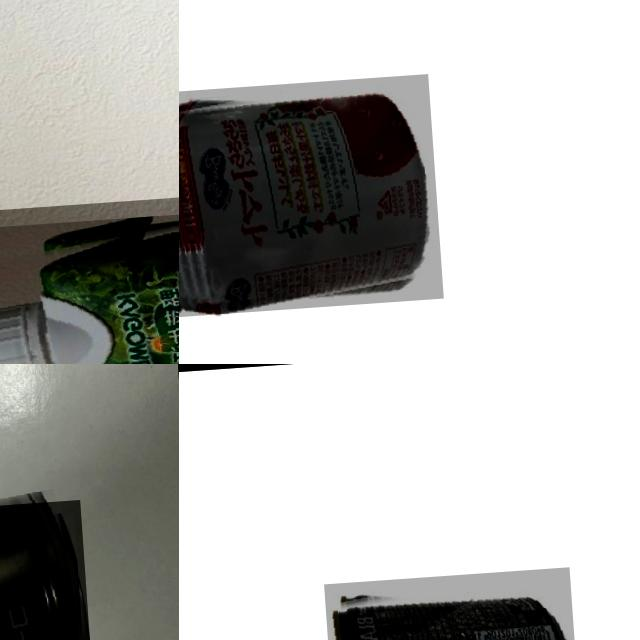Aluminium Foil: (0, 169, 179, 364)
Can: (179, 72, 443, 318), (323, 565, 582, 640), (0, 498, 100, 640)
